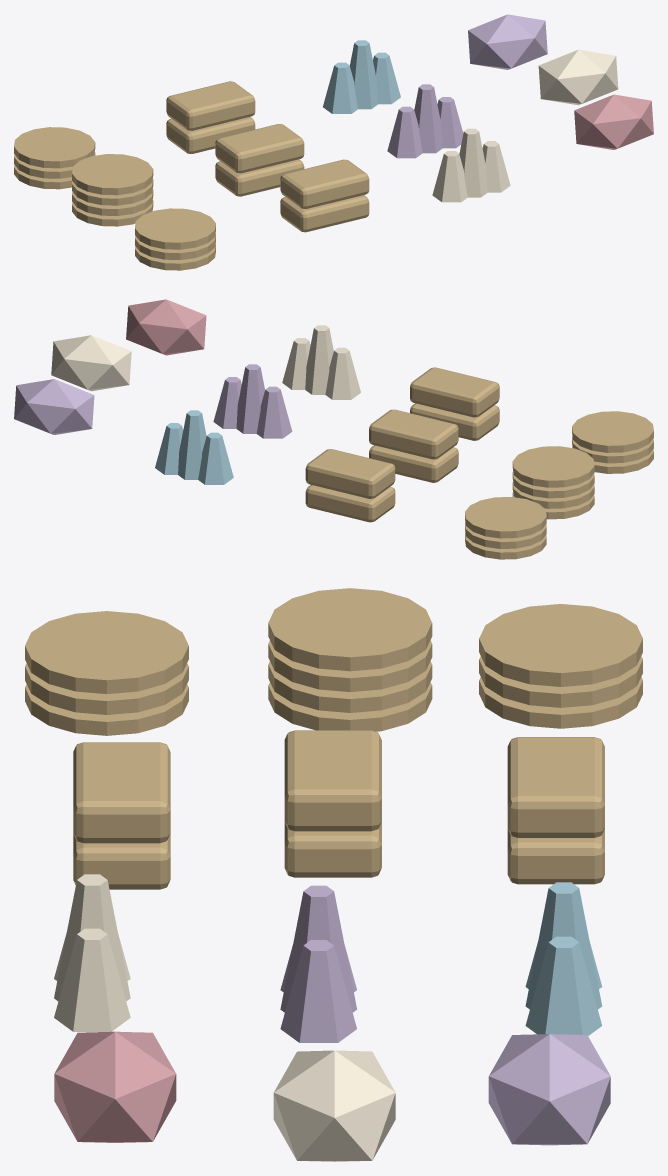
The model's file is hecate-specimens.glb.
The picture shows the model from 3 angles, top to bottom: view 1: azimuth 30°, elevation 25°; view 2: azimuth 150°, elevation 25°; view 3: azimuth 270°, elevation 25°; orthographic projection. The views are drawn at different scales.
Parts seen in each view (by area): view 1: gold coin; view 2: gold coin; view 3: gold coin.
Part boxes in pixels (x1,y1,x2,y2): gold coin: (14, 14, 653, 270); gold coin: (14, 299, 653, 559); gold coin: (25, 588, 642, 1161).
Bounding box in the file's own units: 2.44 × 0.255 × 1.21.
